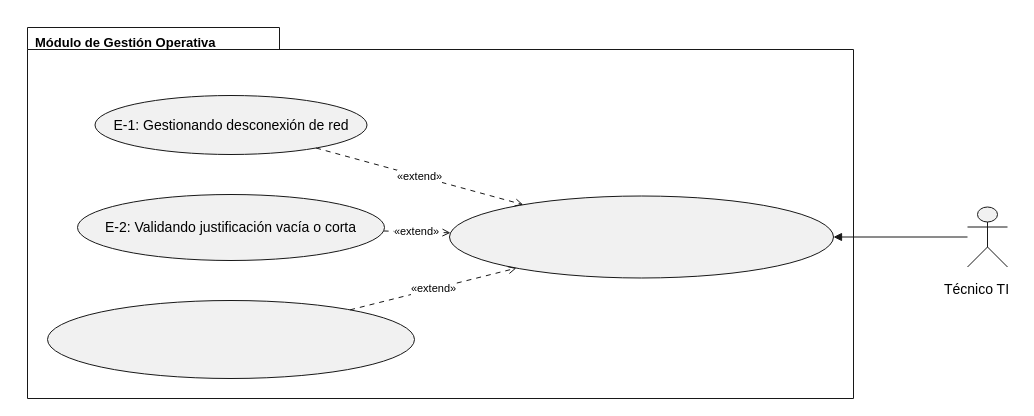
The diagram is 1034 pixels wide and 416 high, and some of its shapes have lost their labels. Each missing label, with the centre of its shape:
"CU-21: Ajustando técnicamente la urgencia del ticket" belongs at point 641,236.
"E-3: Gestionando error del motor SLA al recalcular" belongs at point 230,339.
